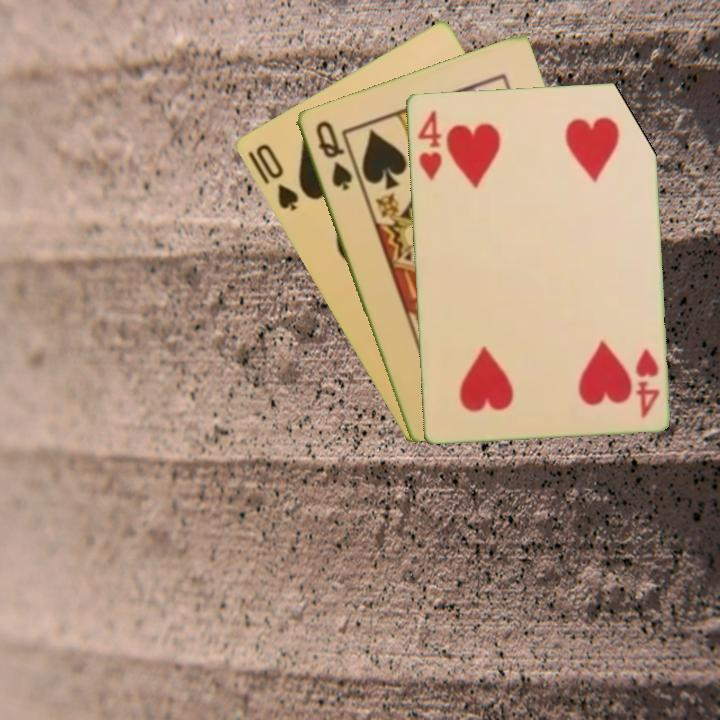10s: (251, 140, 301, 214)
4h: (414, 106, 444, 183), (632, 345, 662, 421)
Qs: (312, 116, 355, 193)
